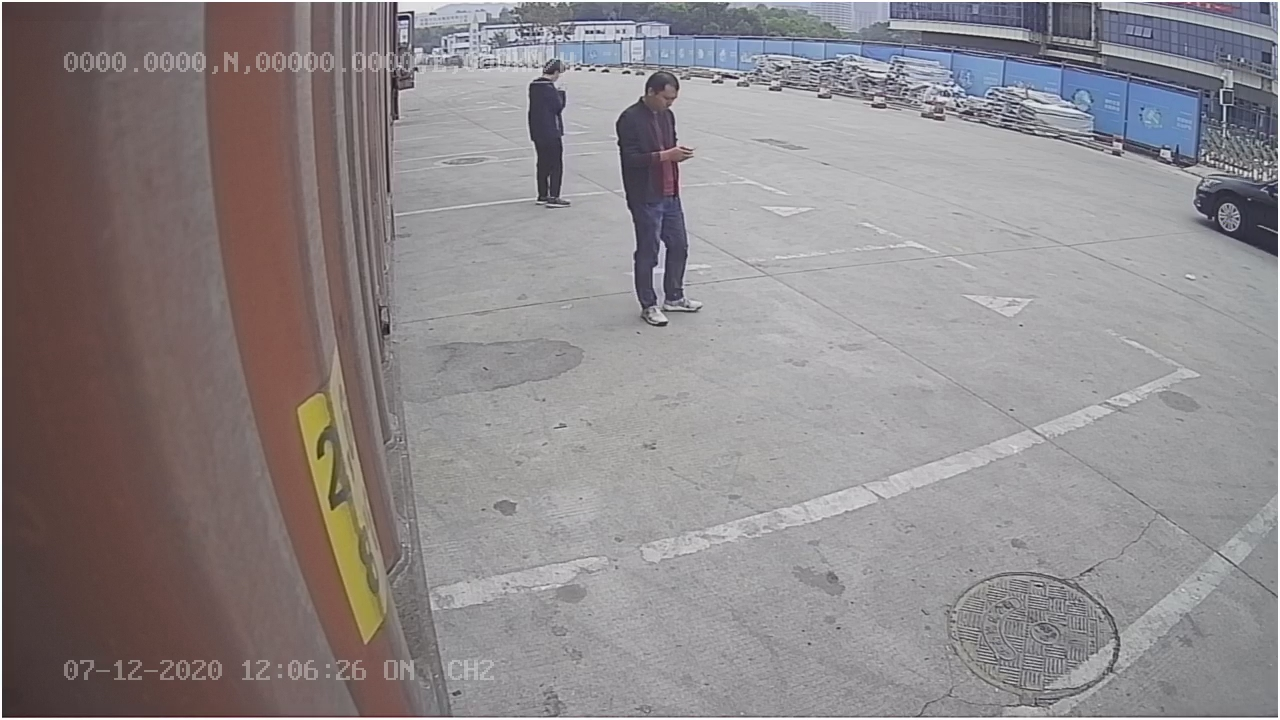person: (616, 73, 705, 328)
